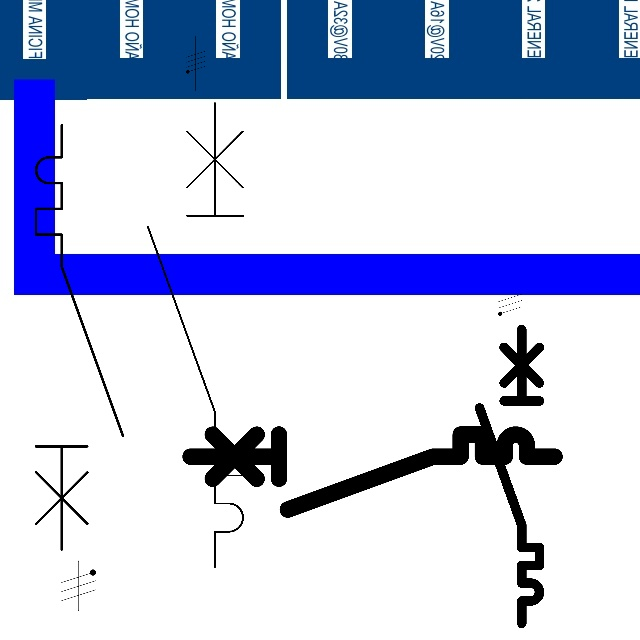interruptor_termomagnetico: (136, 91, 255, 578), (25, 114, 134, 561), (181, 425, 564, 519), (472, 321, 547, 630)
